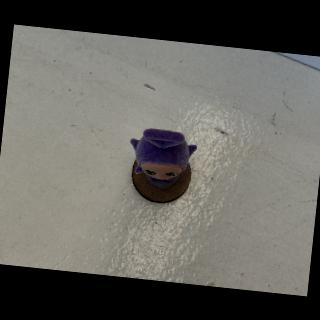teletubby: (130, 128, 197, 180)
